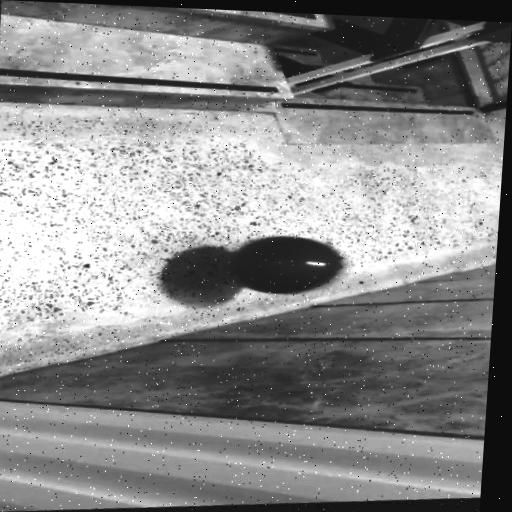balloon: (202, 232, 355, 314)
